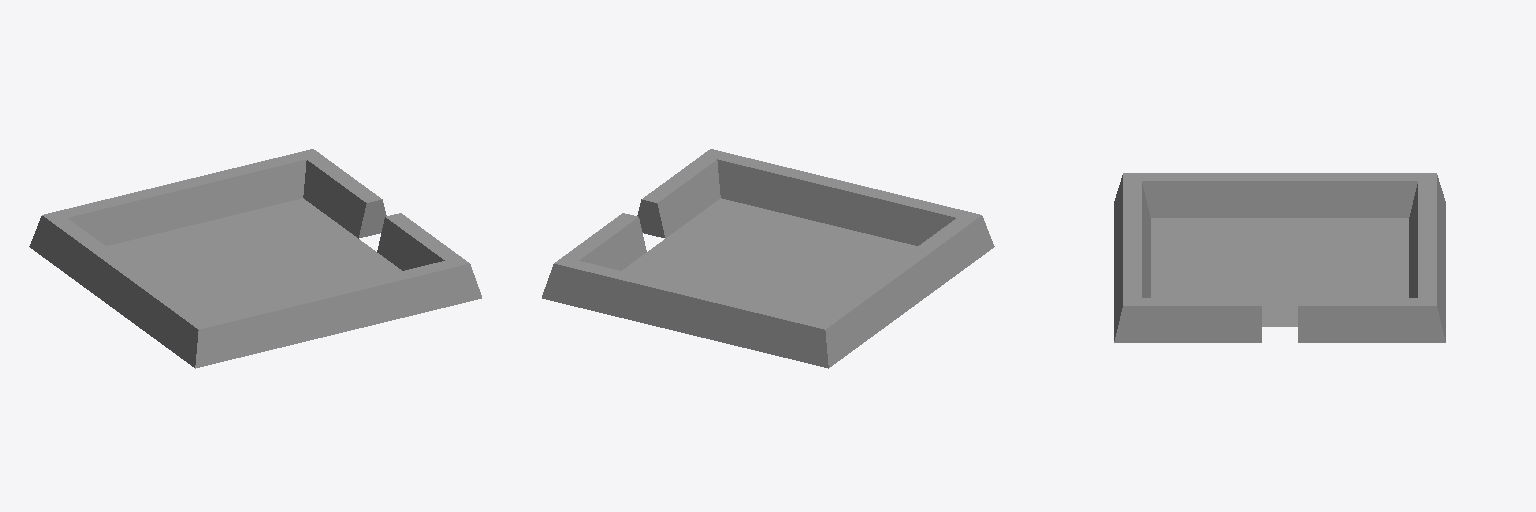
File: Sala_05.obj
3 views of the same model, side by side, from view 1: azimuth 30°, elevation 25°; view 2: azimuth 150°, elevation 25°; view 3: azimuth 270°, elevation 25° (orthographic).
Parts seen in each view (by area): view 1: Ground_Plane, Wall.004_Cube.015, Wall.006_Cube.016, Wall.001_Cube.012, Wall.003_Cube.010, Wall.002_Cube.014, Wall.005_Cube.002, Wall.000_Cube.011, Wall.007_Cube.017; view 2: Ground_Plane, Wall.003_Cube.010, Wall.001_Cube.012, Wall.006_Cube.016, Wall.004_Cube.015, Wall.005_Cube.002, Wall.002_Cube.014, Wall.007_Cube.017, Wall.000_Cube.011; view 3: Ground_Plane, Wall.000_Cube.011, Wall.007_Cube.017, Wall.005_Cube.002, Wall.002_Cube.014, Wall.003_Cube.010, Wall.004_Cube.015, Wall.001_Cube.012, Wall.006_Cube.016.
Part boxes in pixels (bbox=[...]): Ground_Plane: bbox=[106, 198, 401, 318]; Wall.004_Cube.015: bbox=[195, 290, 338, 368]; Wall.006_Cube.016: bbox=[326, 261, 481, 332]; Wall.001_Cube.012: bbox=[178, 149, 312, 224]; Wall.003_Cube.010: bbox=[44, 182, 190, 245]; Wall.002_Cube.014: bbox=[29, 215, 135, 306]; Wall.005_Cube.002: bbox=[112, 269, 204, 367]; Wall.000_Cube.011: bbox=[303, 149, 386, 238]; Wall.007_Cube.017: bbox=[377, 213, 468, 270]; Ground_Plane: bbox=[622, 198, 917, 318]; Wall.003_Cube.010: bbox=[685, 290, 828, 368]; Wall.001_Cube.012: bbox=[542, 261, 697, 332]; Wall.006_Cube.016: bbox=[711, 149, 845, 224]; Wall.004_Cube.015: bbox=[833, 182, 979, 245]; Wall.005_Cube.002: bbox=[888, 215, 994, 306]; Wall.002_Cube.014: bbox=[819, 269, 911, 367]; Wall.007_Cube.017: bbox=[637, 149, 720, 238]; Wall.000_Cube.011: bbox=[555, 213, 646, 270]; Ground_Plane: bbox=[1151, 218, 1408, 326]; Wall.000_Cube.011: bbox=[1298, 298, 1445, 342]; Wall.007_Cube.017: bbox=[1114, 298, 1261, 342]; Wall.005_Cube.002: bbox=[1124, 173, 1279, 217]; Wall.002_Cube.014: bbox=[1280, 173, 1435, 217]; Wall.003_Cube.010: bbox=[1409, 173, 1445, 270]; Wall.004_Cube.015: bbox=[1114, 173, 1150, 270]; Wall.001_Cube.012: bbox=[1409, 239, 1445, 340]; Wall.006_Cube.016: bbox=[1114, 239, 1150, 340].
Bounding box in the file's own units: 18 × 2 × 18.